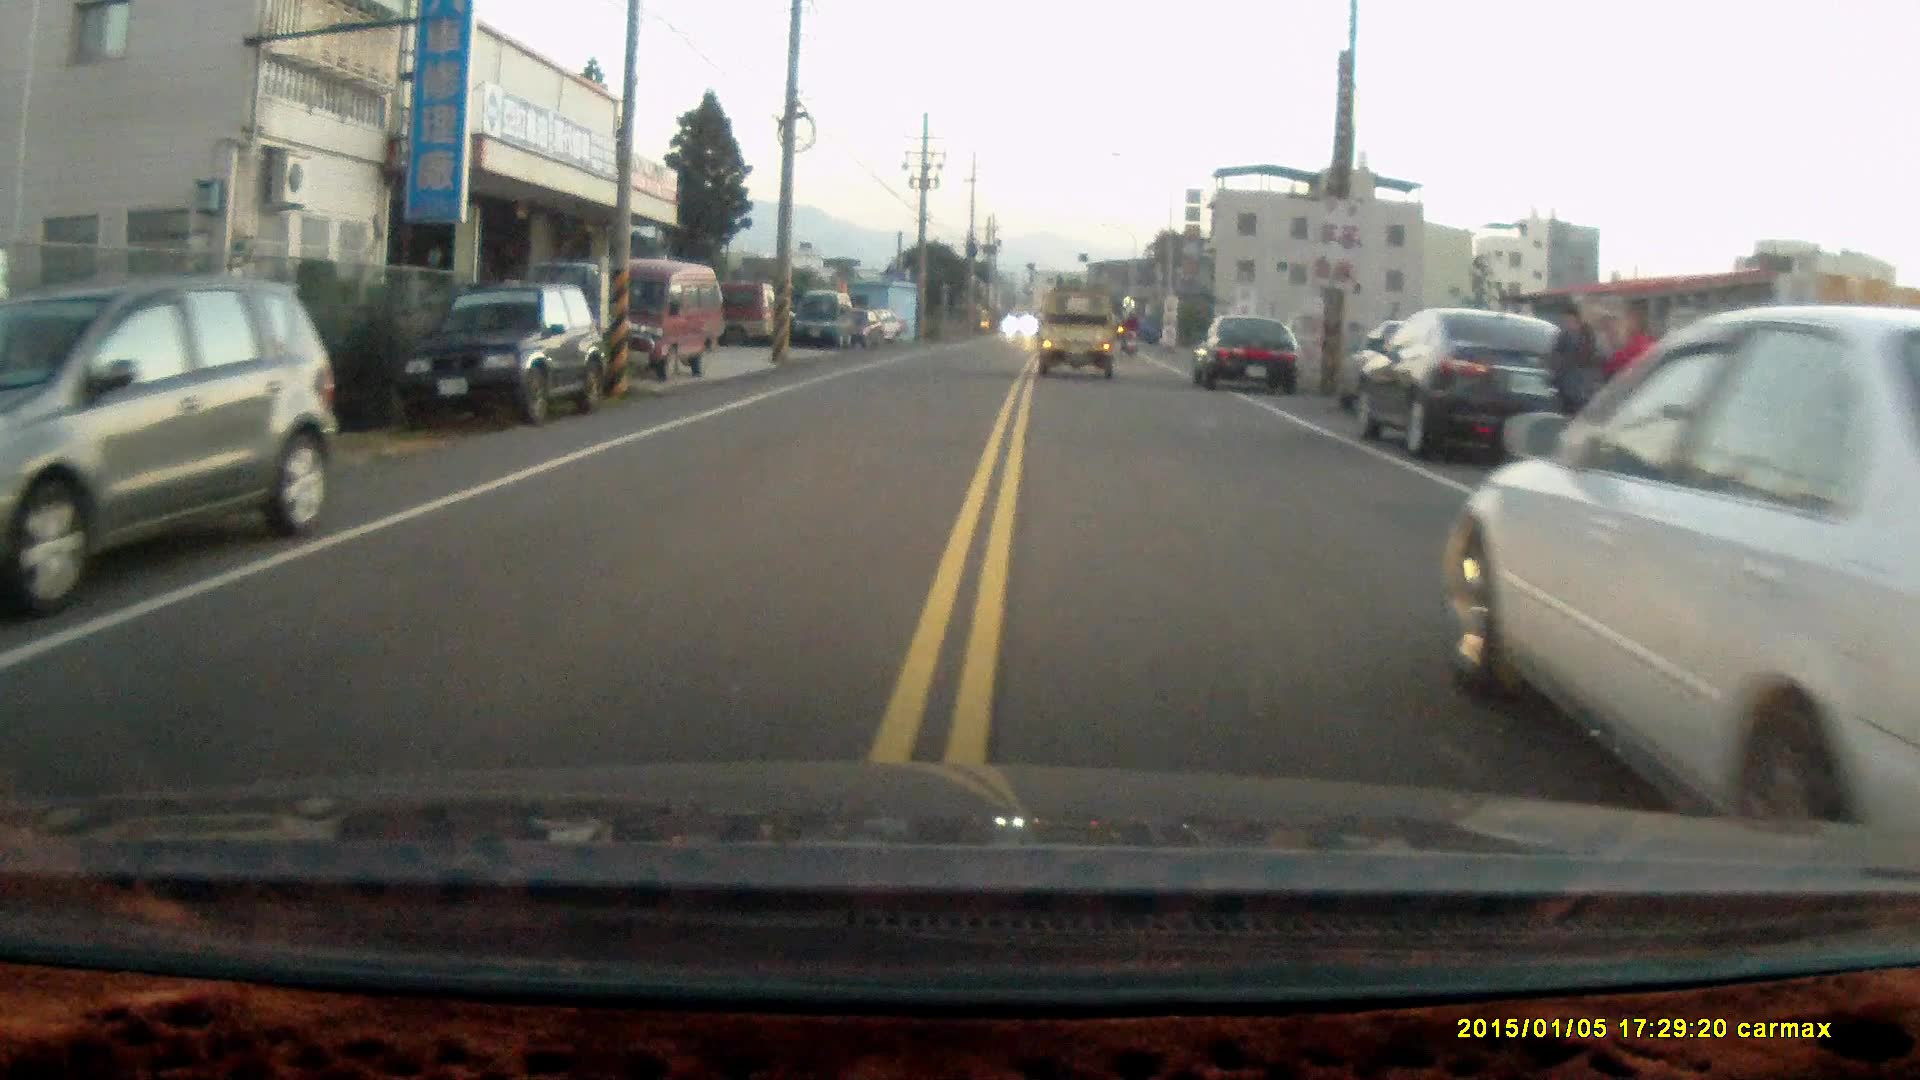pedestrian: (1535, 300, 1603, 483), (1596, 307, 1664, 486)
vehicle: (1455, 302, 1920, 838), (1, 278, 346, 603), (1353, 306, 1608, 467), (403, 279, 598, 427), (569, 256, 732, 382), (1196, 314, 1306, 393), (1034, 287, 1119, 372), (791, 290, 855, 347)
